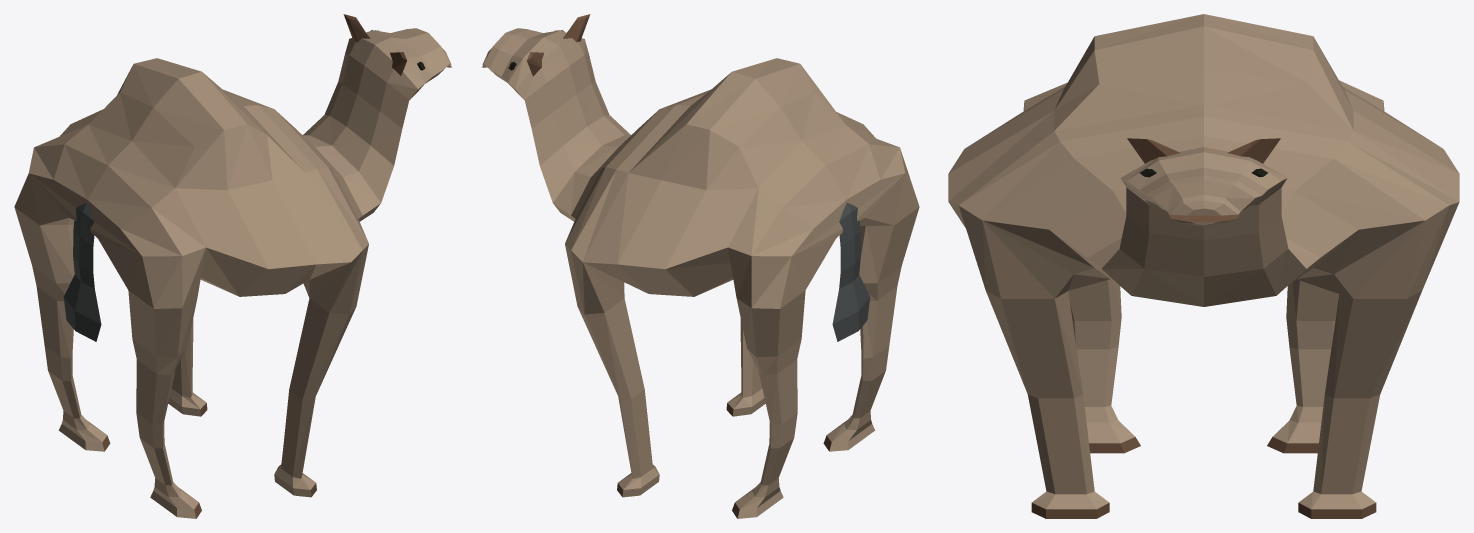
The model's file is camel.glb.
3 views of the same model, side by side, from view 1: azimuth 30°, elevation 25°; view 2: azimuth 150°, elevation 25°; view 3: azimuth 270°, elevation 25° (orthographic). The views are drawn at different scales.
Bounding box in the file's own units: 1 × 1 × 1.
